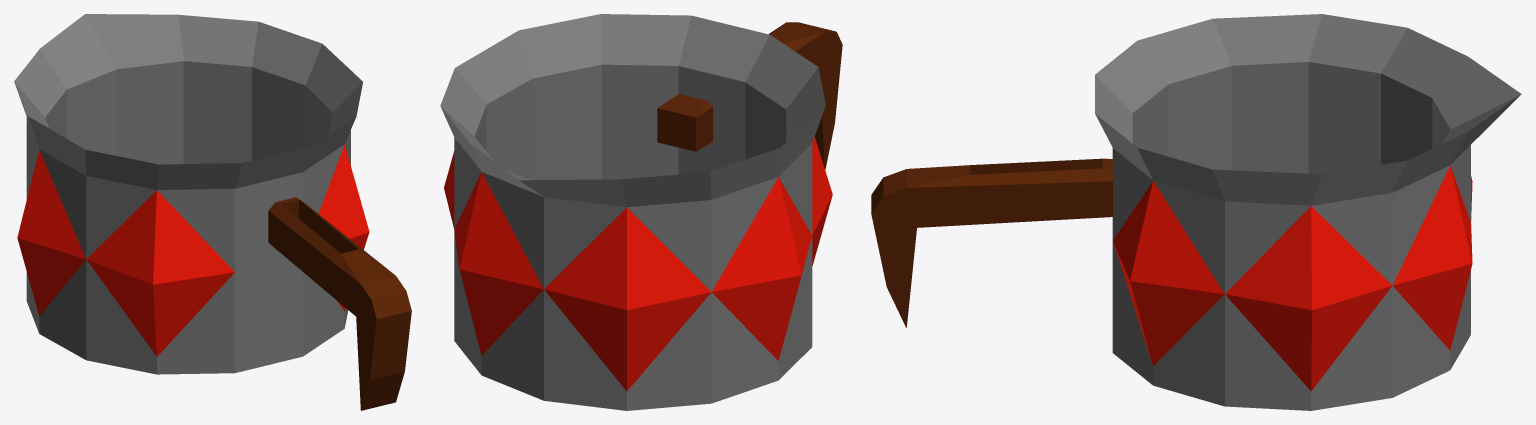
The model's file is saucepen.fbx.
3 renders of one model, left to right at view 1: azimuth 30°, elevation 25°; view 2: azimuth 150°, elevation 25°; view 3: azimuth 270°, elevation 25°, orthographic. The views are drawn at different scales.
Parts seen in each view (by area): view 1: Circle, Circle.002, Circle.001; view 2: Circle, Circle.002, Circle.001; view 3: Circle, Circle.002, Circle.001.
Part boxes in pixels (box(x1,y1,x2,y2)): Circle: box(14, 14, 362, 374); Circle.002: box(17, 145, 369, 356); Circle.001: box(268, 197, 411, 410); Circle: box(440, 14, 825, 410); Circle.002: box(444, 137, 832, 391); Circle.001: box(657, 22, 842, 169); Circle: box(1095, 14, 1521, 410); Circle.002: box(1113, 166, 1472, 391); Circle.001: box(871, 158, 1112, 327).
Size of the model in its own units: 229 by 146 by 358.
